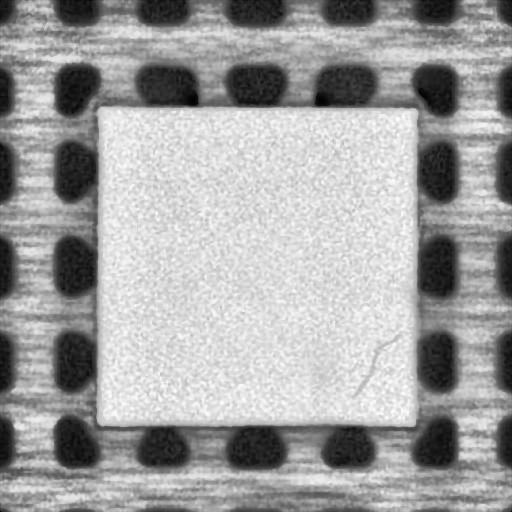DIE_CRACK: (352, 331, 401, 393)
